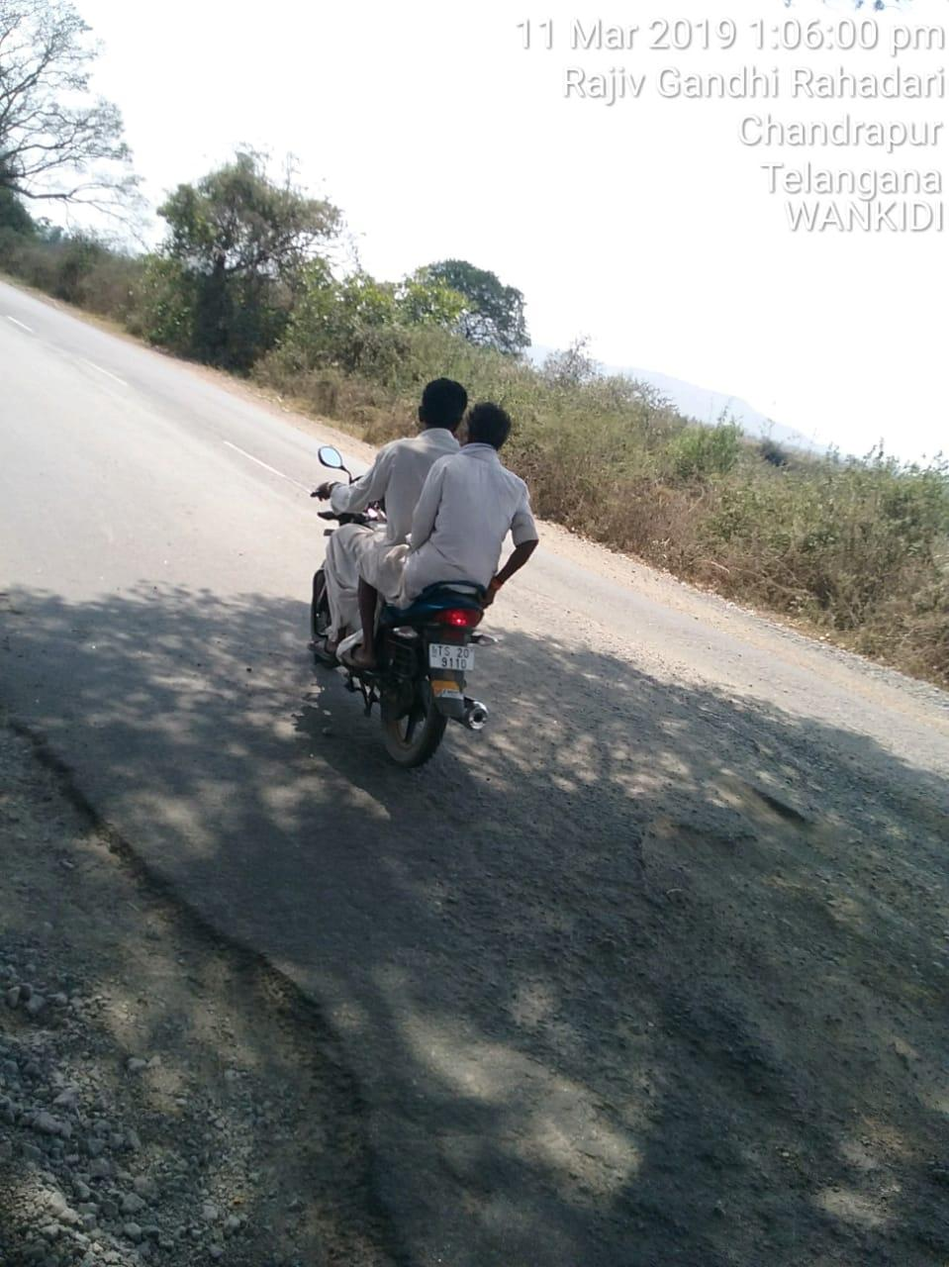plate: (423, 637, 480, 675)
